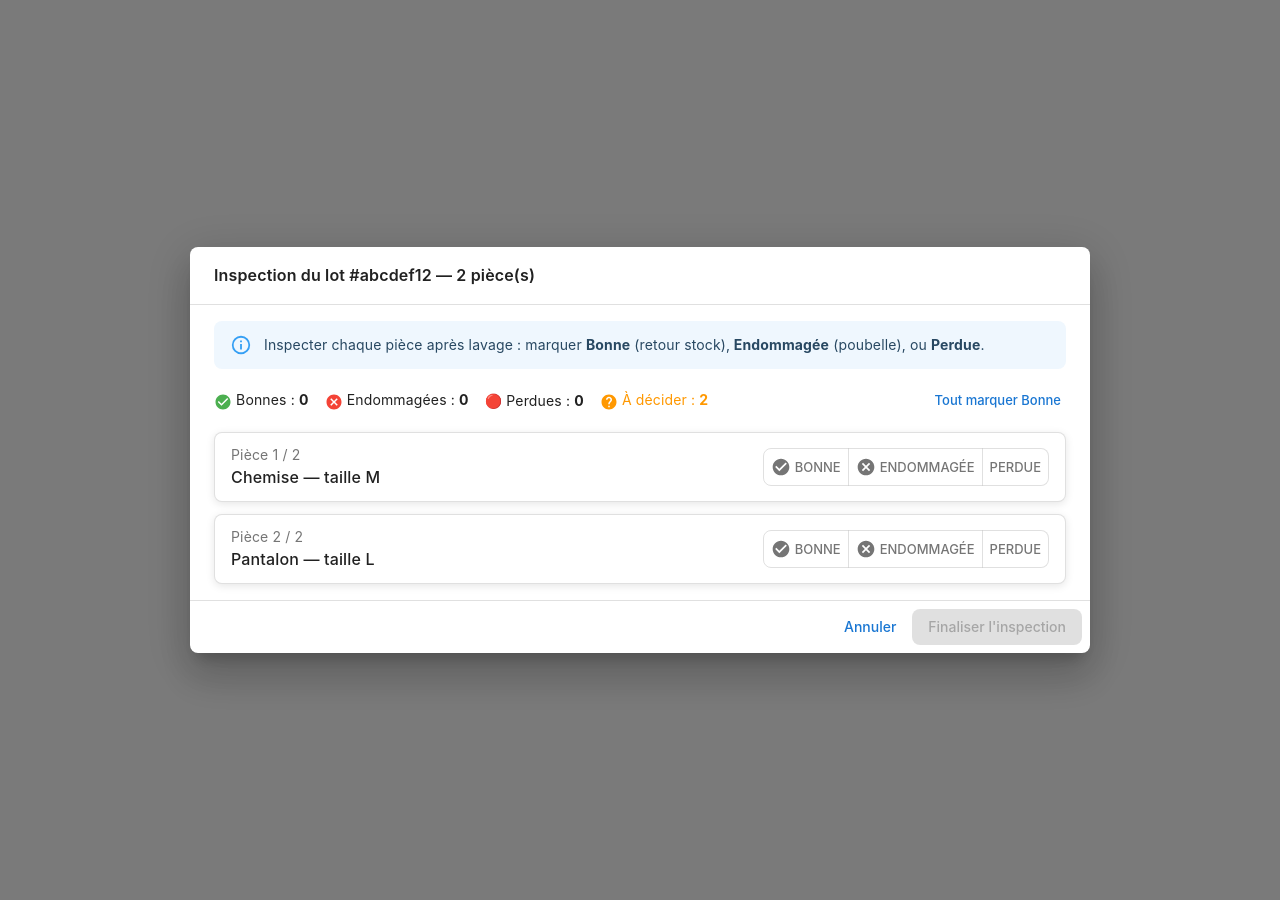
Test: WashBatchInspectionDialog › "Tout marquer Bonne" inspecte toutes les pièces et active Finaliser
The width and height of the screenshot is (1280, 900).
What coordinates should you click on to do the following:
click the button "Tout marquer Bonne"
I would click on:
 (998, 401)
Its box is top-left (930, 385), bottom-right (1066, 416).
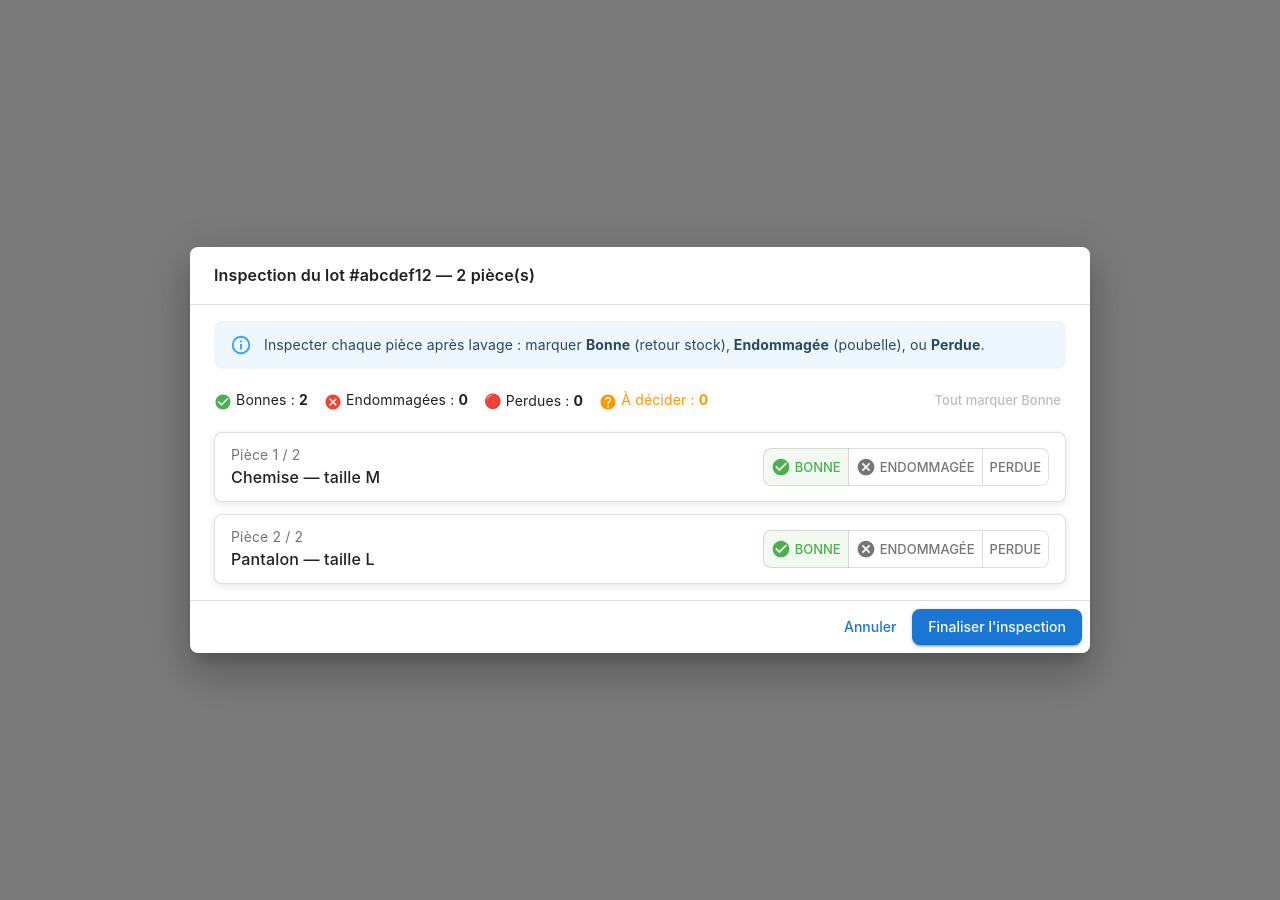
Result: the button "Finaliser l'inspection" is enabled at top-left (912, 609), bottom-right (1082, 645)
Result: the button "Tout marquer Bonne" is disabled at top-left (930, 385), bottom-right (1066, 416)
